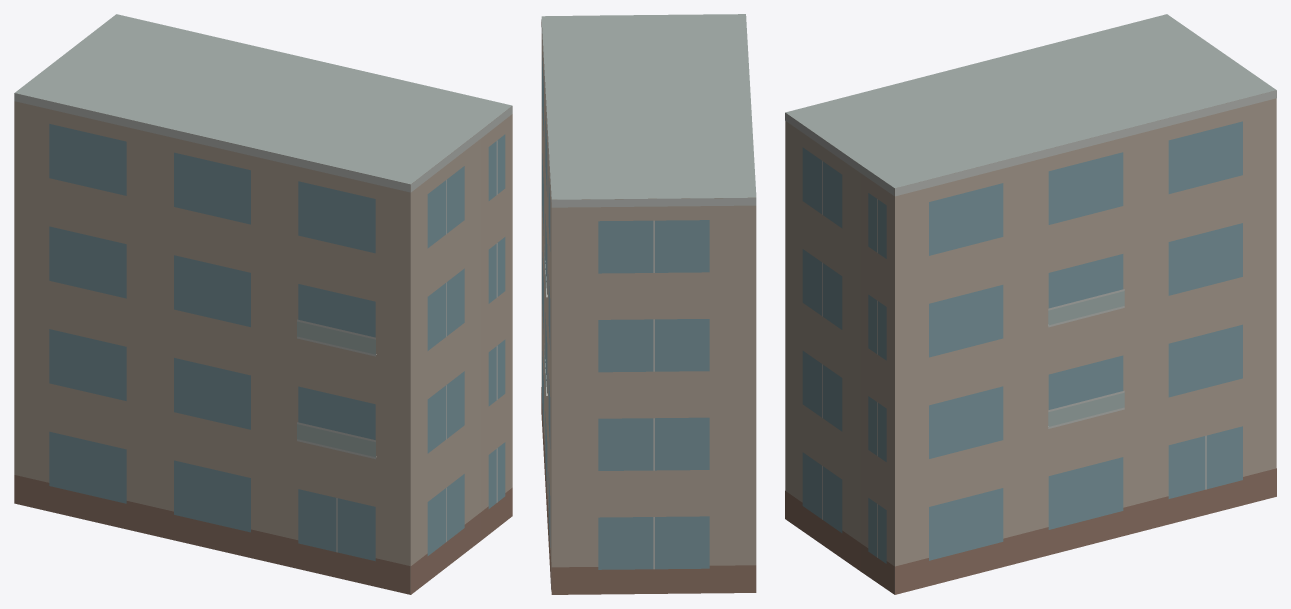
Rendered from residential-3b67c9de-d692-4a71-a0e9-51c9dcabc7ff.glb.
3 renders of one model, left to right at view 1: azimuth 30°, elevation 25°; view 2: azimuth 150°, elevation 25°; view 3: azimuth 270°, elevation 25°, orthographic. The views are drawn at different scales.
Parts seen in each view (by area): view 1: residential-3b67c9de-d692-4a71-a0e9-51c9dcabc7ff.tmp; view 2: residential-3b67c9de-d692-4a71-a0e9-51c9dcabc7ff.tmp; view 3: residential-3b67c9de-d692-4a71-a0e9-51c9dcabc7ff.tmp.
Boxes of the visible parts, bbox=[...] form: residential-3b67c9de-d692-4a71-a0e9-51c9dcabc7ff.tmp: bbox=[14, 14, 512, 594]; residential-3b67c9de-d692-4a71-a0e9-51c9dcabc7ff.tmp: bbox=[541, 14, 756, 594]; residential-3b67c9de-d692-4a71-a0e9-51c9dcabc7ff.tmp: bbox=[785, 14, 1276, 594].
Bounding box in the file's own units: 11.23 × 12.2 × 13.38.
